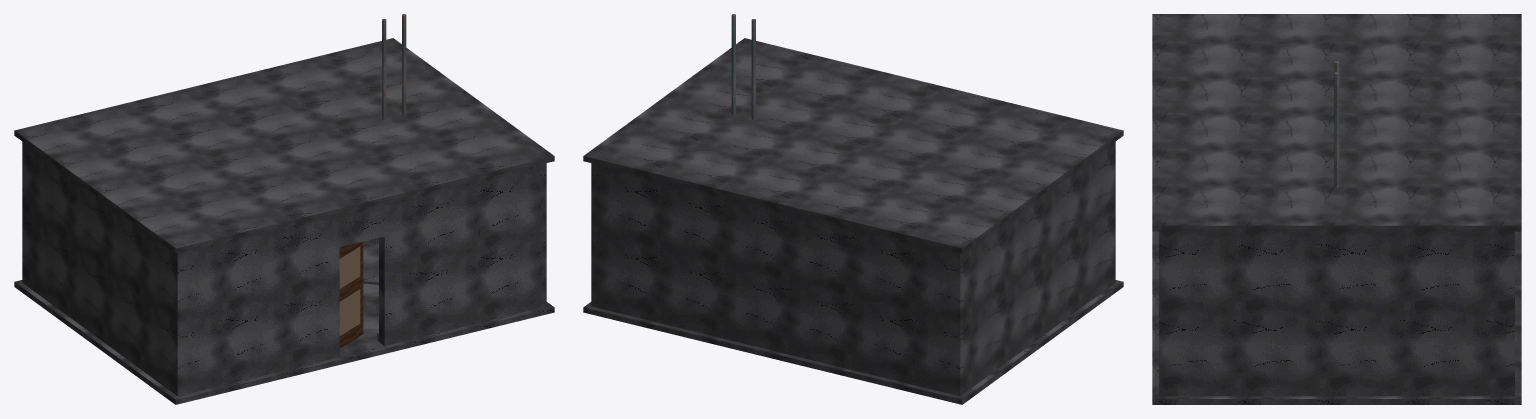
The model's file is porao.glb.
3 views of the same model, side by side, from view 1: azimuth 30°, elevation 25°; view 2: azimuth 150°, elevation 25°; view 3: azimuth 270°, elevation 25° (orthographic). The views are drawn at different scales.
Parts seen in each view (by area): view 1: concrete-col, flat.025, wood_dark, metal; view 2: concrete-col, metal; view 3: concrete-col, metal.
Boxes of the visible parts, x1=… form: concrete-col: x1=14, y1=38, x2=554, y2=404; flat.025: x1=339, y1=246, x2=360, y2=335; wood_dark: x1=339, y1=241, x2=363, y2=348; metal: x1=377, y1=14, x2=406, y2=341; concrete-col: x1=583, y1=38, x2=1123, y2=404; metal: x1=731, y1=14, x2=755, y2=119; concrete-col: x1=1152, y1=14, x2=1521, y2=404; metal: x1=1334, y1=61, x2=1339, y2=187.
Bounding box in the file's own units: 7.6 × 4.9 × 5.6.
42 materials, 15 textured.
